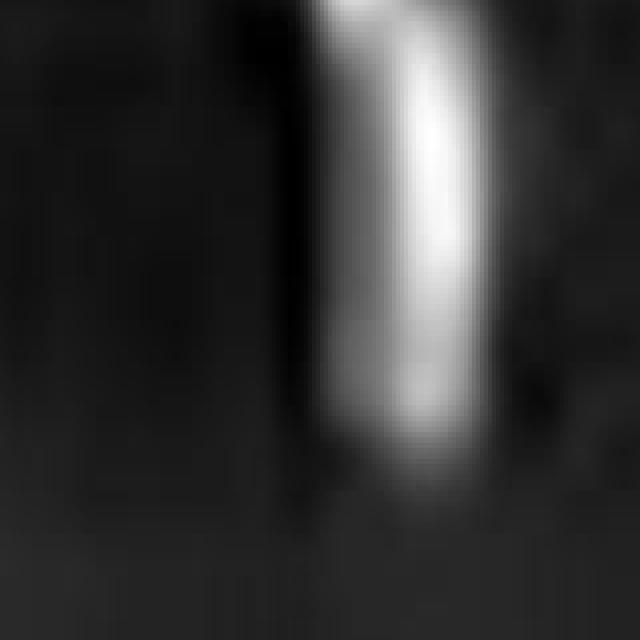person: (257, 1, 521, 508)
